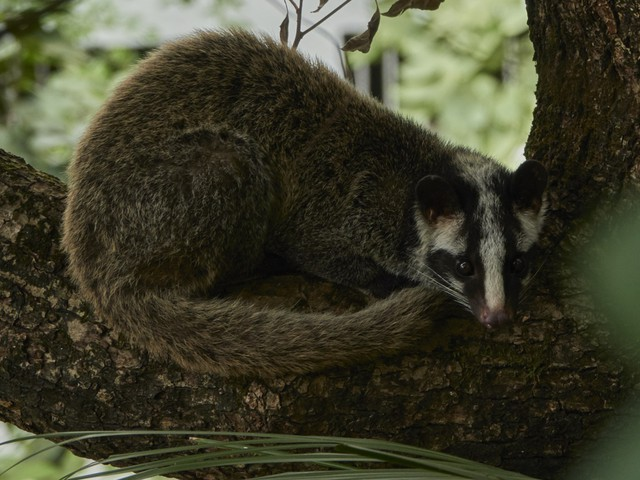civet: (62, 30, 549, 373)
